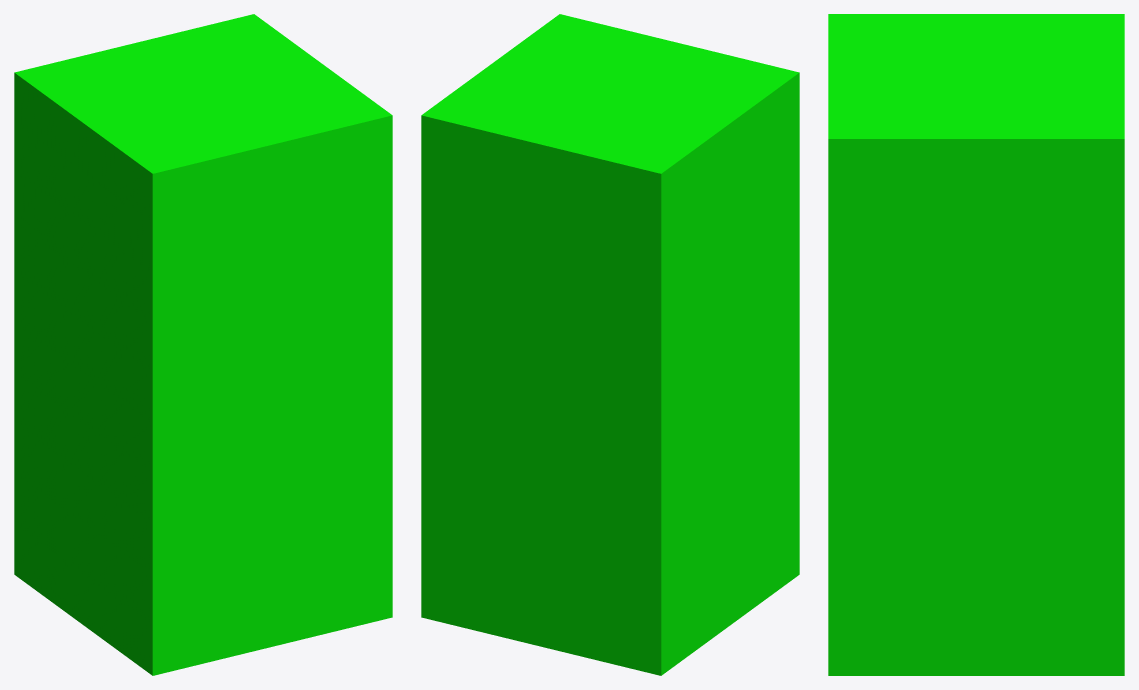
Rendered from Tower.fbx.
3 renders of one model, left to right at view 1: azimuth 30°, elevation 25°; view 2: azimuth 150°, elevation 25°; view 3: azimuth 270°, elevation 25°, orthographic. The views are drawn at different scales.
Visible parts, largest first — view 1: OpaqueCube 249, OpaqueCube 204, OpaqueCube 214, OpaqueCube 224, OpaqueCube 209, OpaqueCube 229, OpaqueCube 234, OpaqueCube 239, OpaqueCube 244, OpaqueCube 219, OpaqueCube 49, OpaqueCube 99 (+94 smaller); view 2: OpaqueCube 248, OpaqueCube 203, OpaqueCube 213, OpaqueCube 223, OpaqueCube 208, OpaqueCube 228, OpaqueCube 233, OpaqueCube 238, OpaqueCube 243, OpaqueCube 218, OpaqueCube 48, OpaqueCube 98 (+94 smaller); view 3: OpaqueCube 196, OpaqueCube 197, OpaqueCube 198, OpaqueCube 199, OpaqueCube 195, OpaqueCube 153, OpaqueCube 154, OpaqueCube 178, OpaqueCube 179, OpaqueCube 183, OpaqueCube 184, OpaqueCube 151 (+58 smaller).
Boxes of the visible parts, x1,y1,x2,y2 form: OpaqueCube 249: [125, 142, 200, 223]; OpaqueCube 204: [125, 405, 200, 474]; OpaqueCube 214: [125, 455, 200, 525]; OpaqueCube 224: [125, 505, 200, 575]; OpaqueCube 209: [125, 354, 200, 424]; OpaqueCube 229: [125, 254, 200, 324]; OpaqueCube 234: [125, 555, 200, 625]; OpaqueCube 239: [125, 204, 200, 273]; OpaqueCube 244: [125, 605, 200, 675]; OpaqueCube 219: [125, 304, 200, 374]; OpaqueCube 49: [221, 118, 296, 200]; OpaqueCube 99: [269, 107, 344, 188]; OpaqueCube 248: [613, 142, 688, 223]; OpaqueCube 203: [613, 405, 688, 474]; OpaqueCube 213: [613, 455, 688, 525]; OpaqueCube 223: [613, 505, 688, 575]; OpaqueCube 208: [613, 354, 688, 424]; OpaqueCube 228: [613, 254, 688, 324]; OpaqueCube 233: [613, 555, 688, 625]; OpaqueCube 238: [613, 204, 688, 273]; OpaqueCube 243: [613, 605, 688, 675]; OpaqueCube 218: [613, 304, 688, 374]; OpaqueCube 48: [517, 118, 592, 200]; OpaqueCube 98: [469, 107, 544, 188]; OpaqueCube 196: [1006, 114, 1065, 192]; OpaqueCube 197: [887, 114, 946, 192]; OpaqueCube 198: [1065, 114, 1124, 192]; OpaqueCube 199: [828, 114, 887, 192]; OpaqueCube 195: [947, 114, 1005, 192]; OpaqueCube 153: [1065, 407, 1124, 461]; OpaqueCube 154: [828, 407, 887, 461]; OpaqueCube 178: [1065, 246, 1124, 300]; OpaqueCube 179: [828, 246, 887, 300]; OpaqueCube 183: [1065, 568, 1124, 622]; OpaqueCube 184: [828, 568, 887, 622]; OpaqueCube 151: [1006, 407, 1065, 461].
Bounding box in the file's own units: 250 × 500 × 250.
